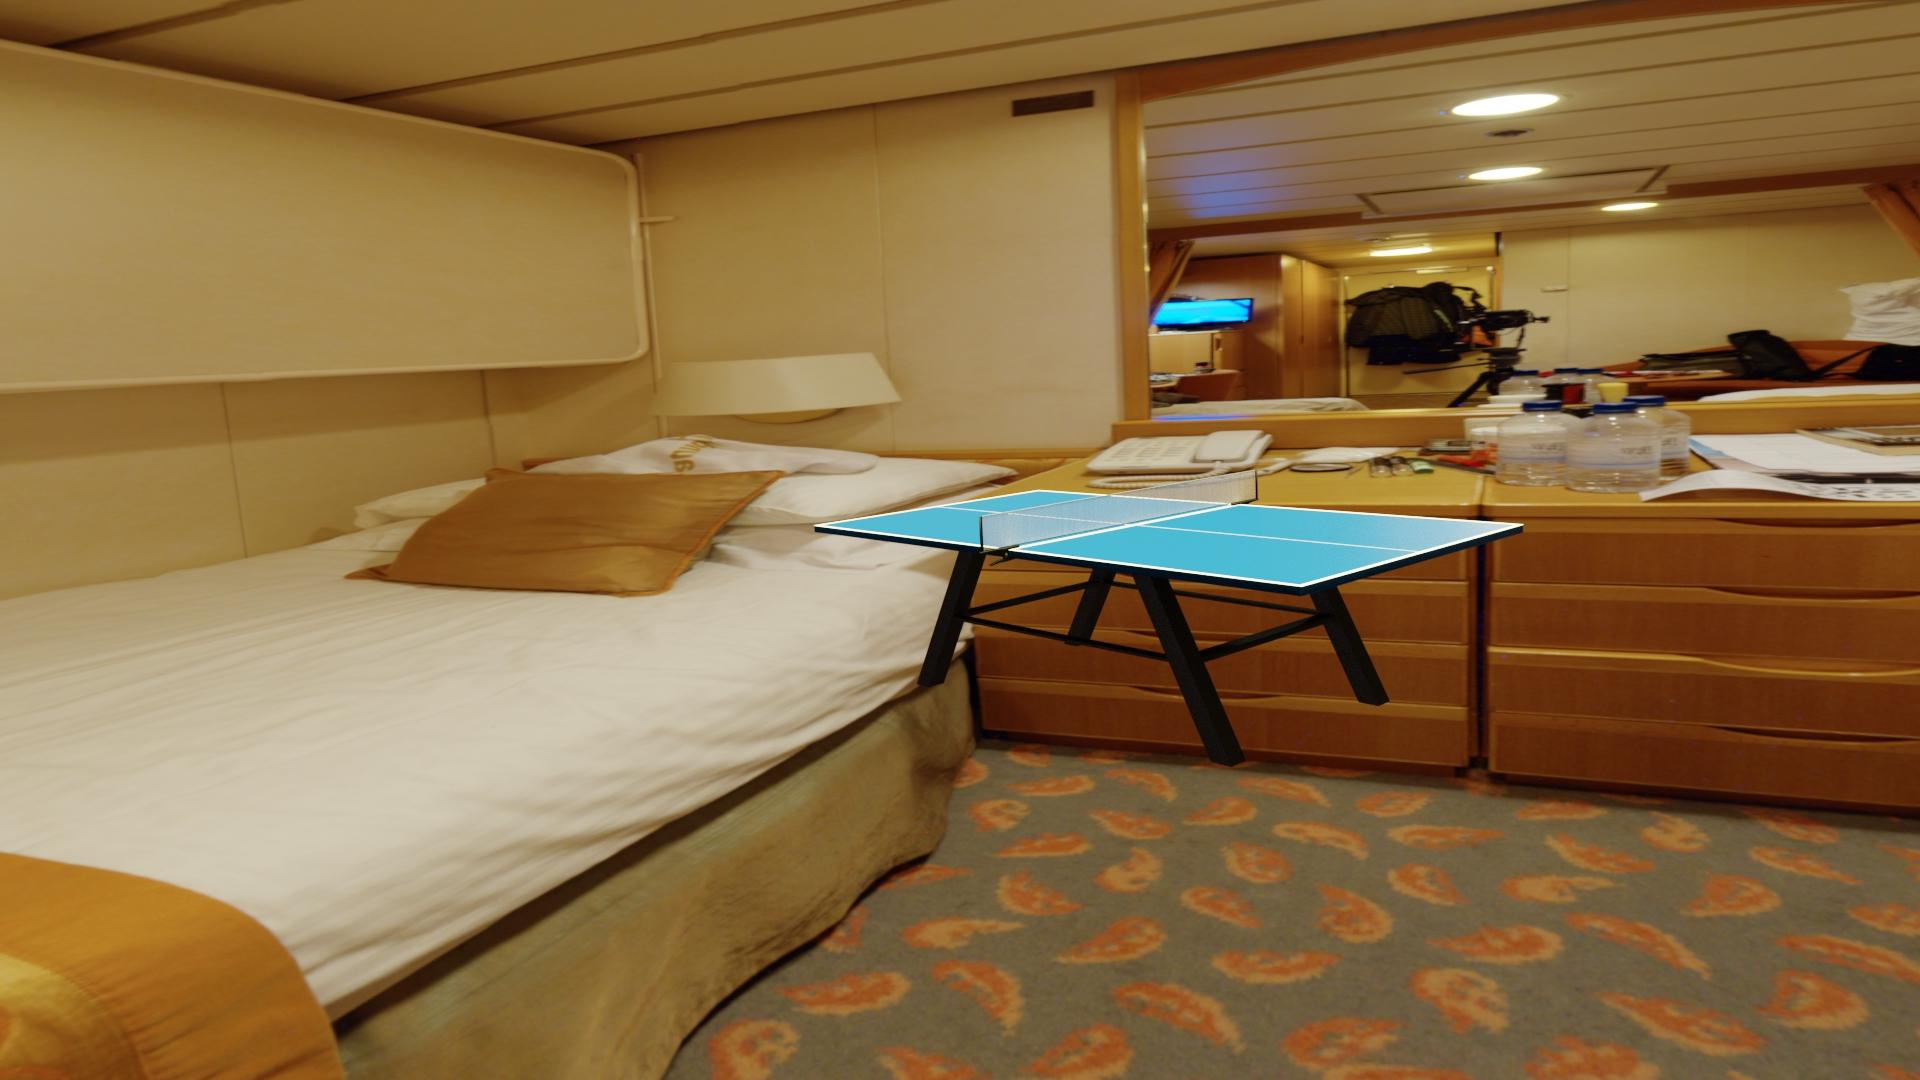table: (819, 491, 1516, 585)
